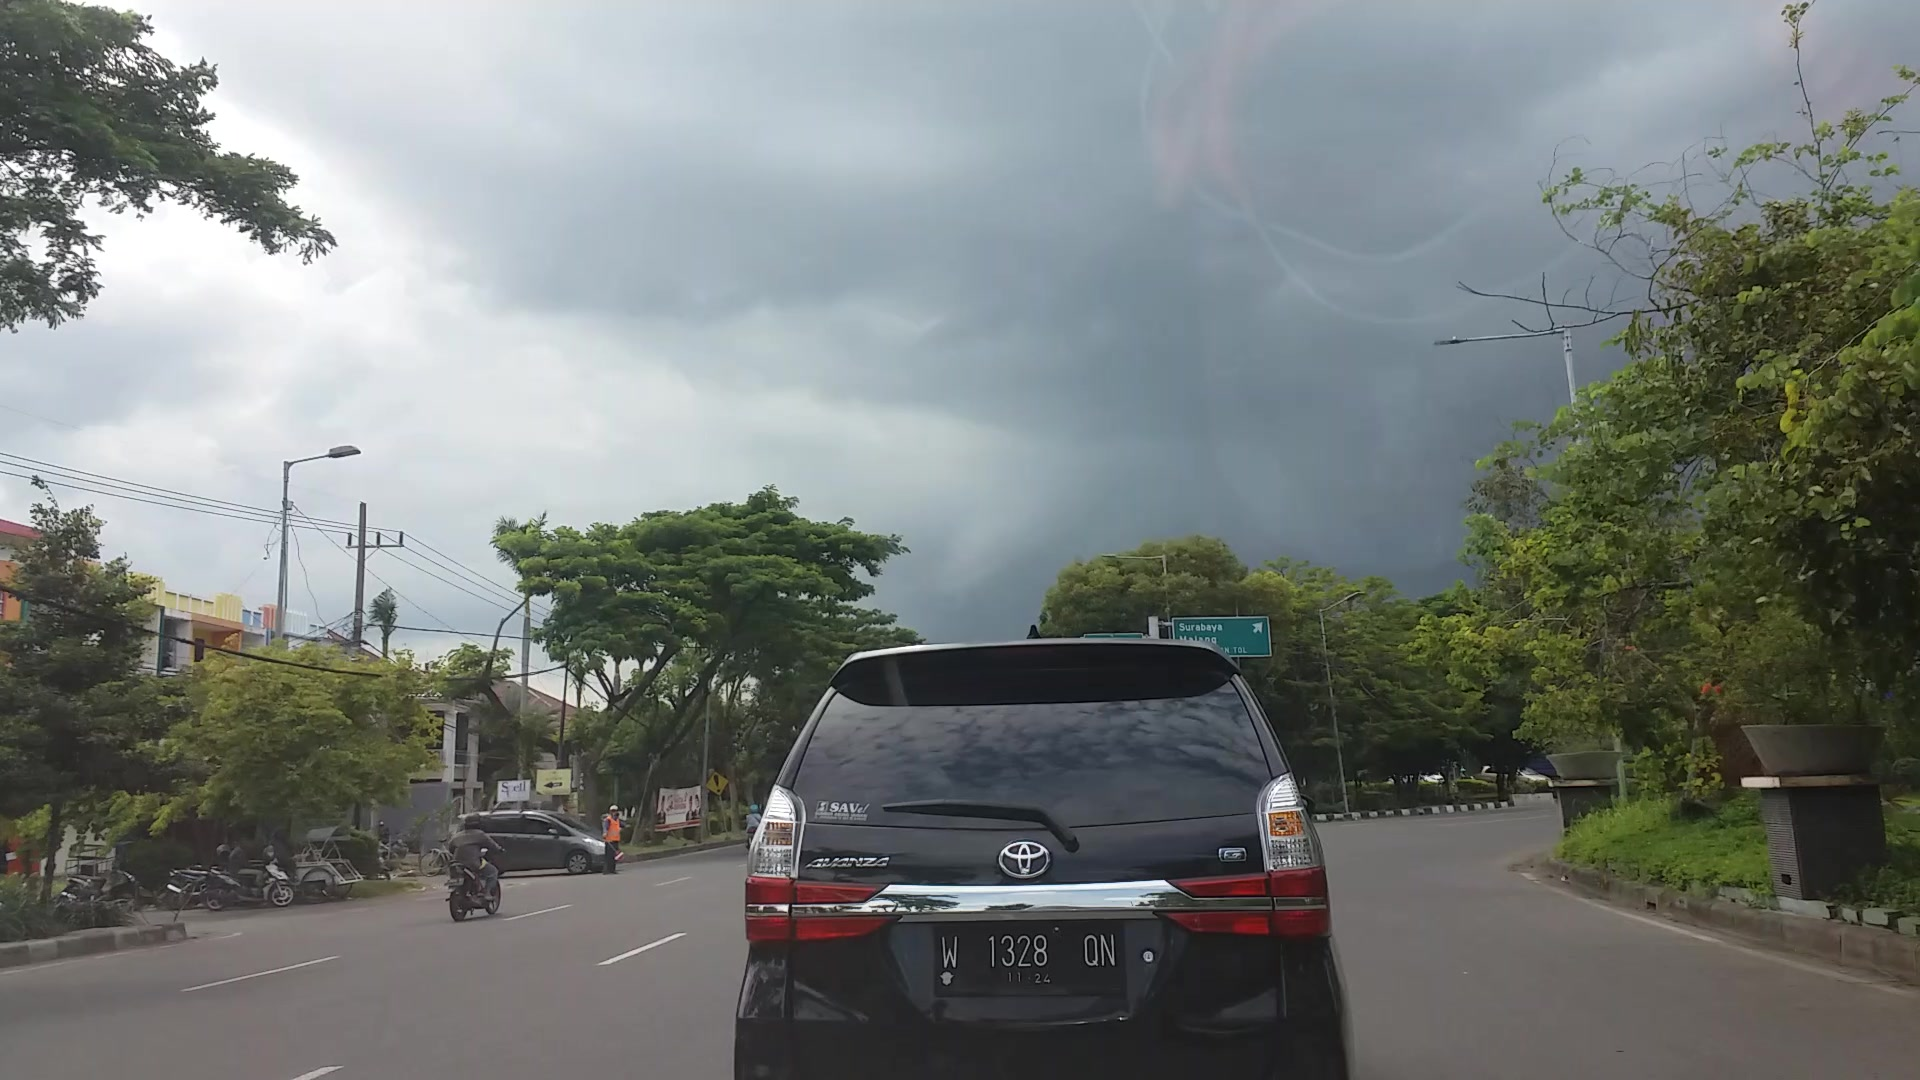plate_positive: (936, 920, 1122, 997)
